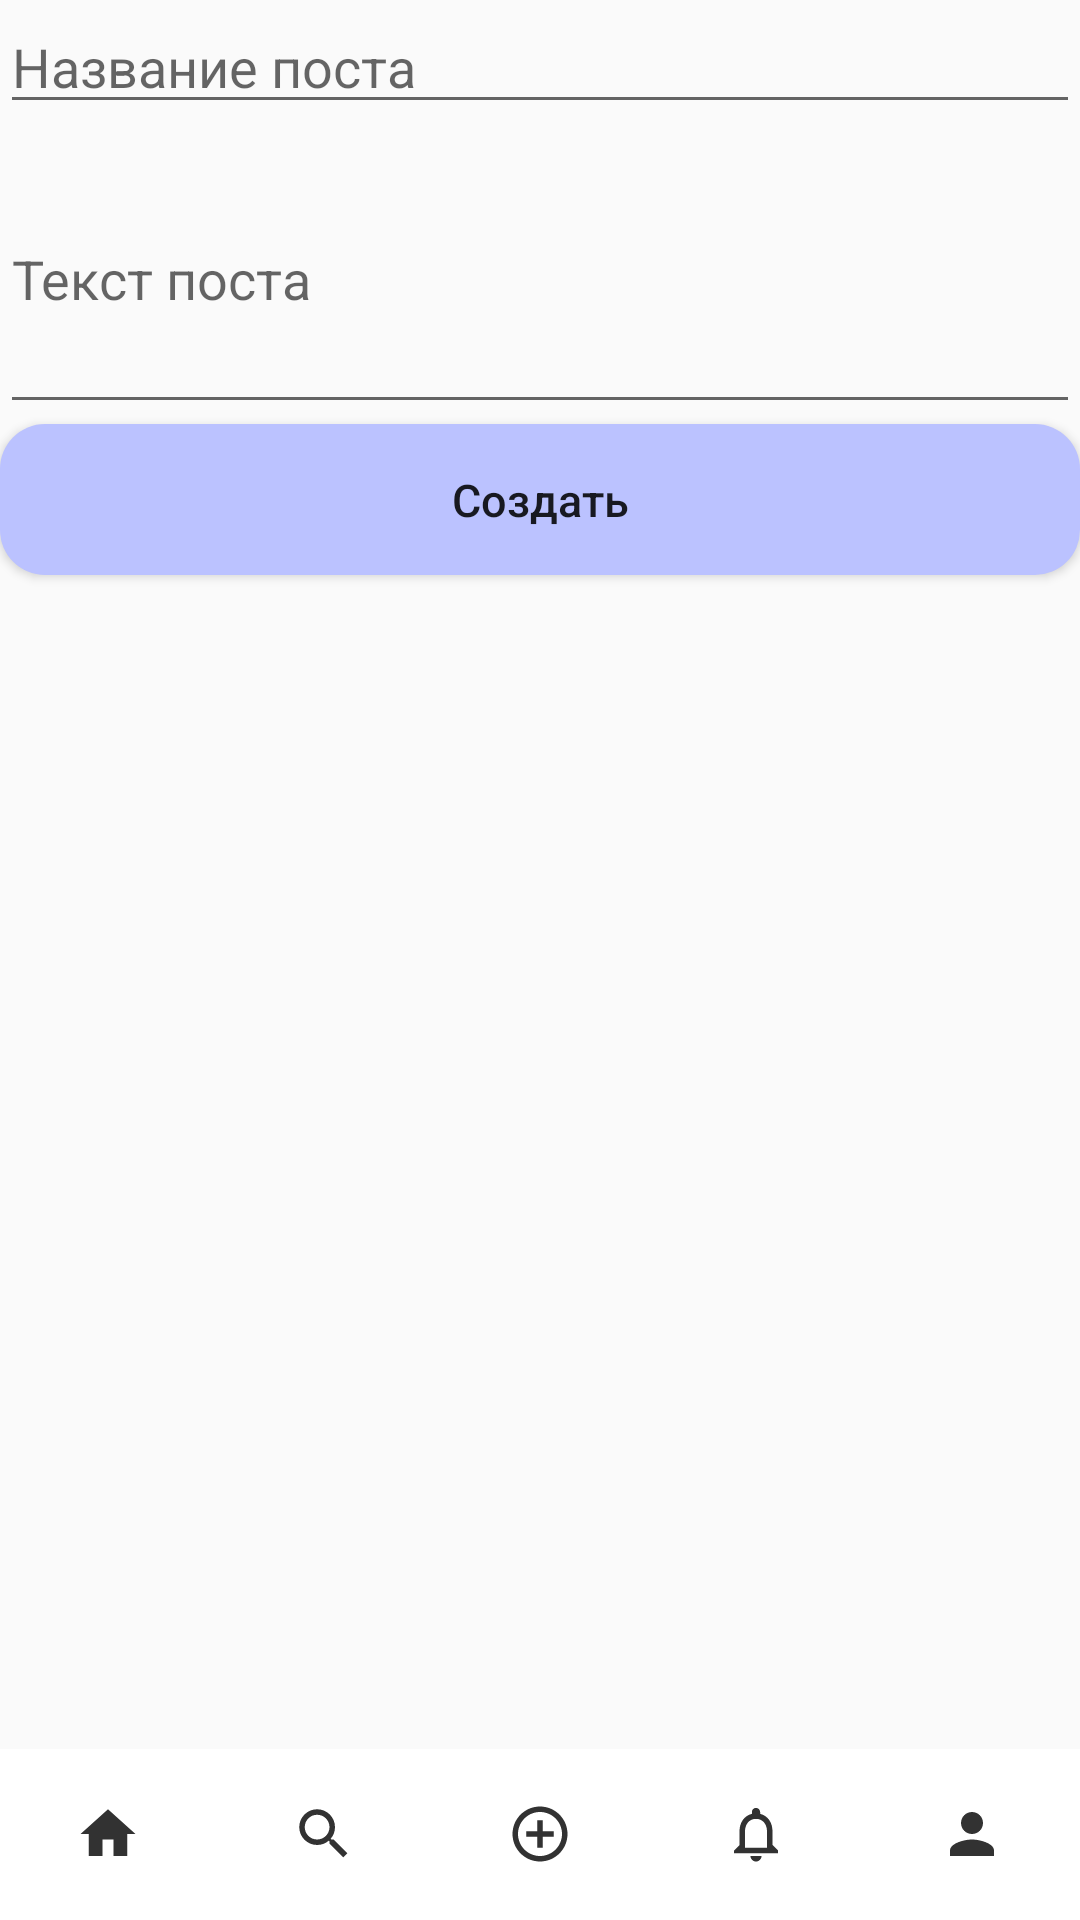

Named icons in this screenshot (1080*1920) and their bounding boxes, (x1, y1, x2, y2):
add circle: (512, 1806, 568, 1862)
home: (81, 1809, 135, 1856)
notifications none: (734, 1808, 778, 1862)
person: (950, 1812, 994, 1856)
search: (299, 1809, 348, 1858)
